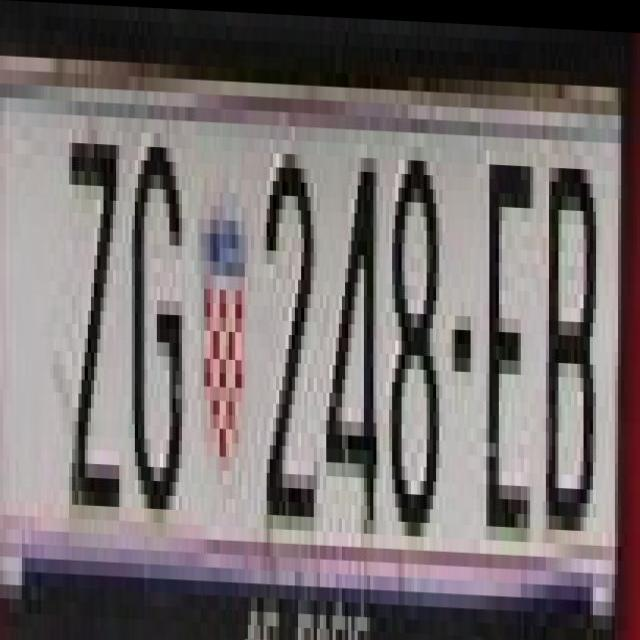2: (260, 122, 314, 500)
4: (323, 138, 383, 545)
8: (382, 141, 446, 547)
B: (542, 119, 602, 526)
E: (476, 116, 536, 551)
G: (132, 145, 182, 522)
Z: (66, 100, 122, 506)
